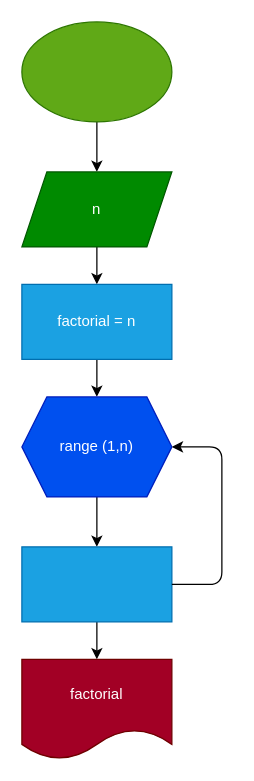
The diagram is 254 pixels wide and 781 high, and some of its shapes have lost their labels. Here are the shapes that lost their labels. From the top down, the centre of each, then its label:
point (96, 71): inicio
point (96, 584): factorial = factorial * i
